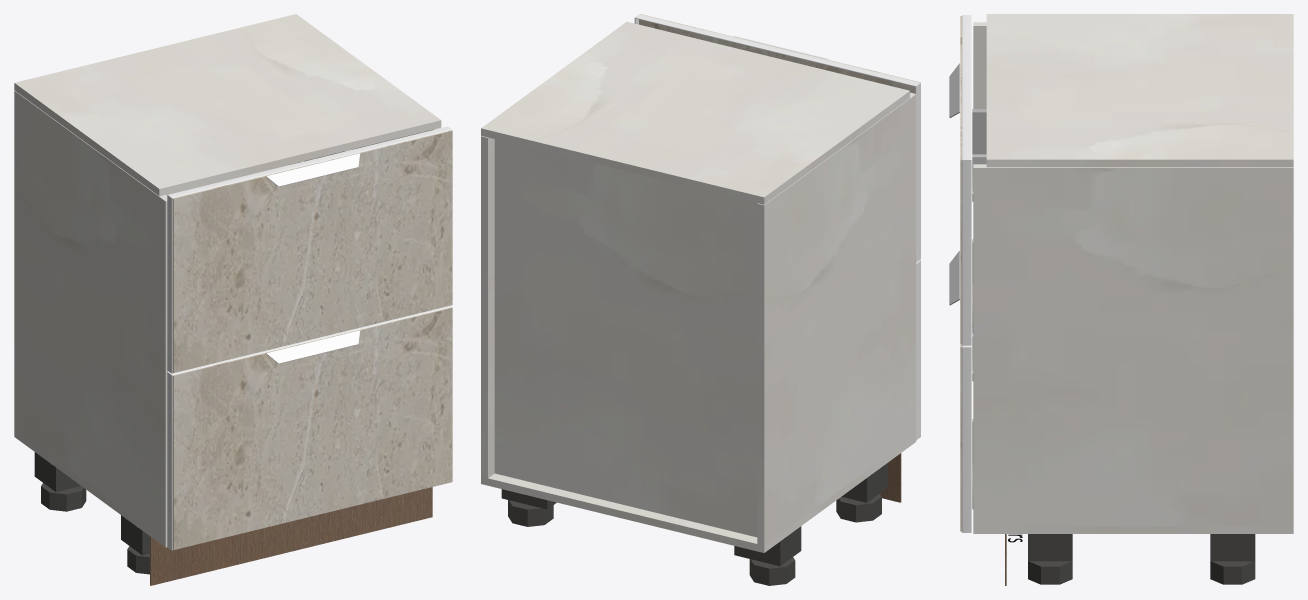
The picture shows the model from 3 angles, left to right: view 1: azimuth 30°, elevation 25°; view 2: azimuth 150°, elevation 25°; view 3: azimuth 270°, elevation 25°; orthographic projection. The views are drawn at different scales.
Size of what is drawn, in the model's own units: 0.6 by 0.82 by 0.6.
Materials: 7 (3 with a texture image).
